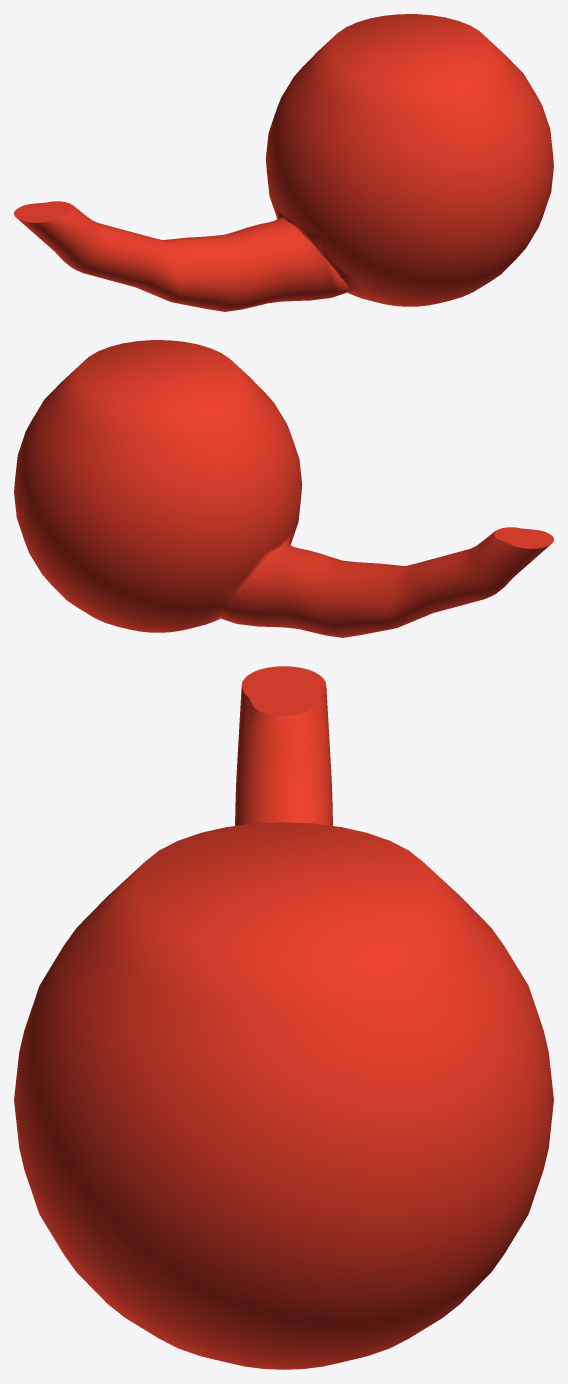
Rendered from liquido.fbx.
3 views of the same model, one above another, from view 1: azimuth 30°, elevation 25°; view 2: azimuth 150°, elevation 25°; view 3: azimuth 270°, elevation 25° (orthographic). The views are drawn at different scales.
Parts seen in each view (by area): view 1: Liquido2; view 2: Liquido2; view 3: Liquido2.
Part boxes in pixels (left/top/right/bottom): Liquido2: left=14, top=14, right=553, bottom=311; Liquido2: left=14, top=340, right=553, bottom=637; Liquido2: left=14, top=666, right=553, bottom=1369.
Size of the model in its own units: 4065 by 1841 by 1962.
